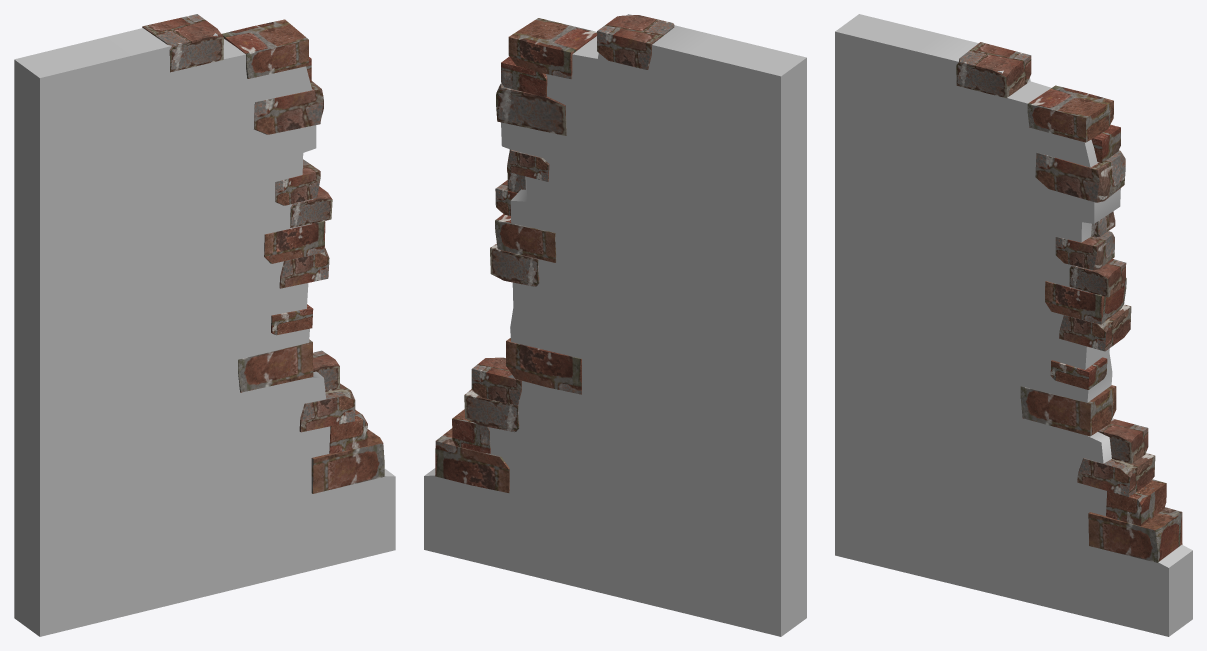
Rendered from SM_Wall_Ruined_05.fbx.
3 views of the same model, side by side, from view 1: azimuth 30°, elevation 25°; view 2: azimuth 150°, elevation 25°; view 3: azimuth 330°, elevation 25° (orthographic). The views are drawn at different scales.
Visible parts, largest first — view 1: SM_Wall_Ruined_05_LOD0; view 2: SM_Wall_Ruined_05_LOD0; view 3: SM_Wall_Ruined_05_LOD0.
Boxes of the visible parts, bbox=[...] form: SM_Wall_Ruined_05_LOD0: bbox=[14, 14, 395, 636]; SM_Wall_Ruined_05_LOD0: bbox=[424, 14, 806, 636]; SM_Wall_Ruined_05_LOD0: bbox=[835, 14, 1192, 636].
Size of what is drawn, in the model's own units: 400 by 601 by 56.1.
